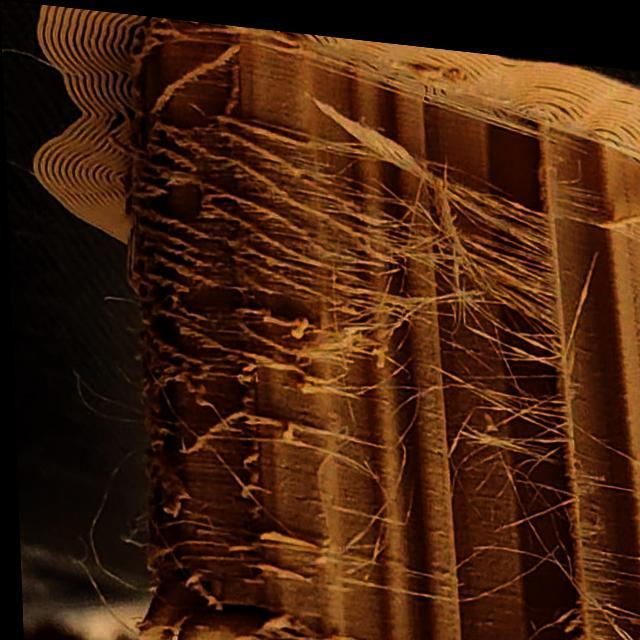stringing: (444, 170, 558, 314), (290, 246, 419, 366), (337, 177, 451, 265), (467, 372, 567, 462), (143, 215, 224, 273), (500, 611, 580, 640)
